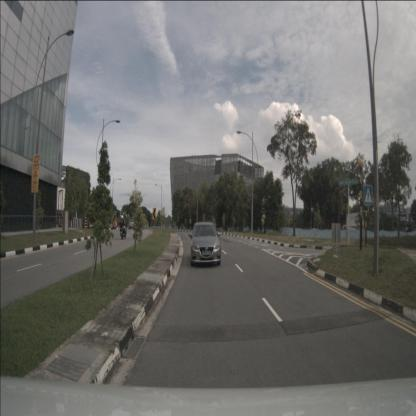vehicle-car: (190, 222, 221, 267), (129, 220, 135, 230)
vehicle-motorcycle: (119, 213, 127, 240)
